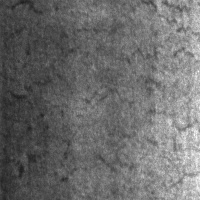crazing: (56, 2, 198, 153), (1, 85, 50, 178)
